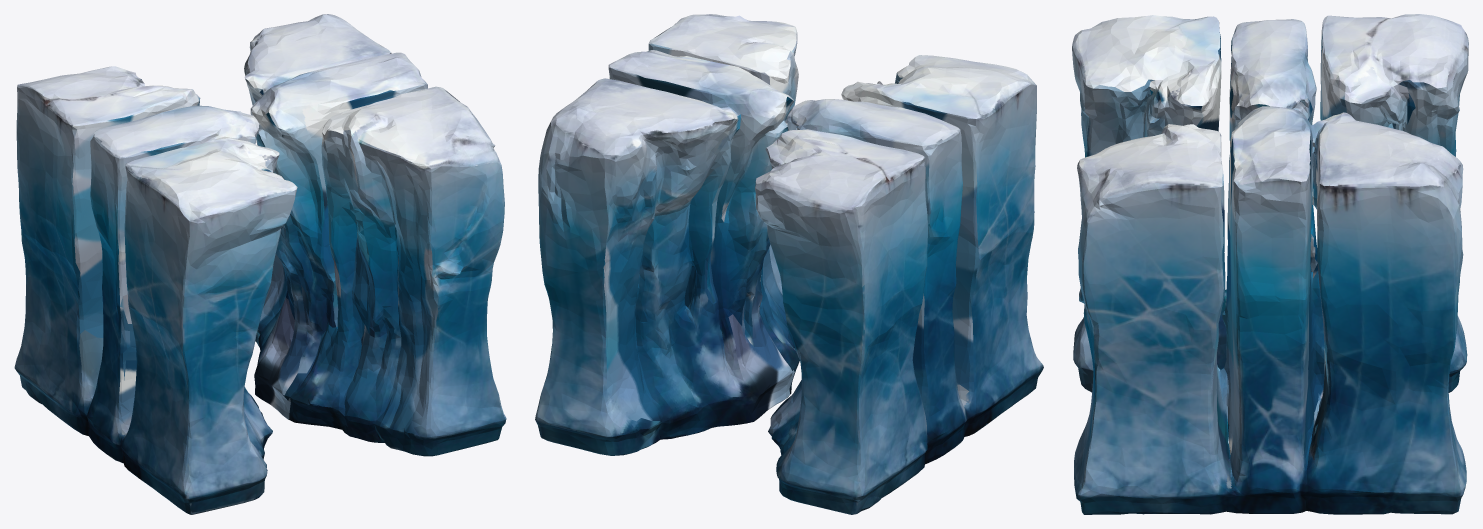
File: mouth_blue_ice_fissure.glb
3 views of the same model, side by side, from view 1: azimuth 30°, elevation 25°; view 2: azimuth 150°, elevation 25°; view 3: azimuth 270°, elevation 25° (orthographic). The views are drawn at different scales.
Parts seen in each view (by area): view 1: temp_mesh.ply; view 2: temp_mesh.ply; view 3: temp_mesh.ply.
Part boxes in pixels (<box>): temp_mesh.ply: <box>14,14,506,514</box>; temp_mesh.ply: <box>535,14,1043,514</box>; temp_mesh.ply: <box>1072,14,1468,514</box>.
Bounding box in the file's own units: 1.98 × 1.86 × 1.94.
1 material, 1 textured.
